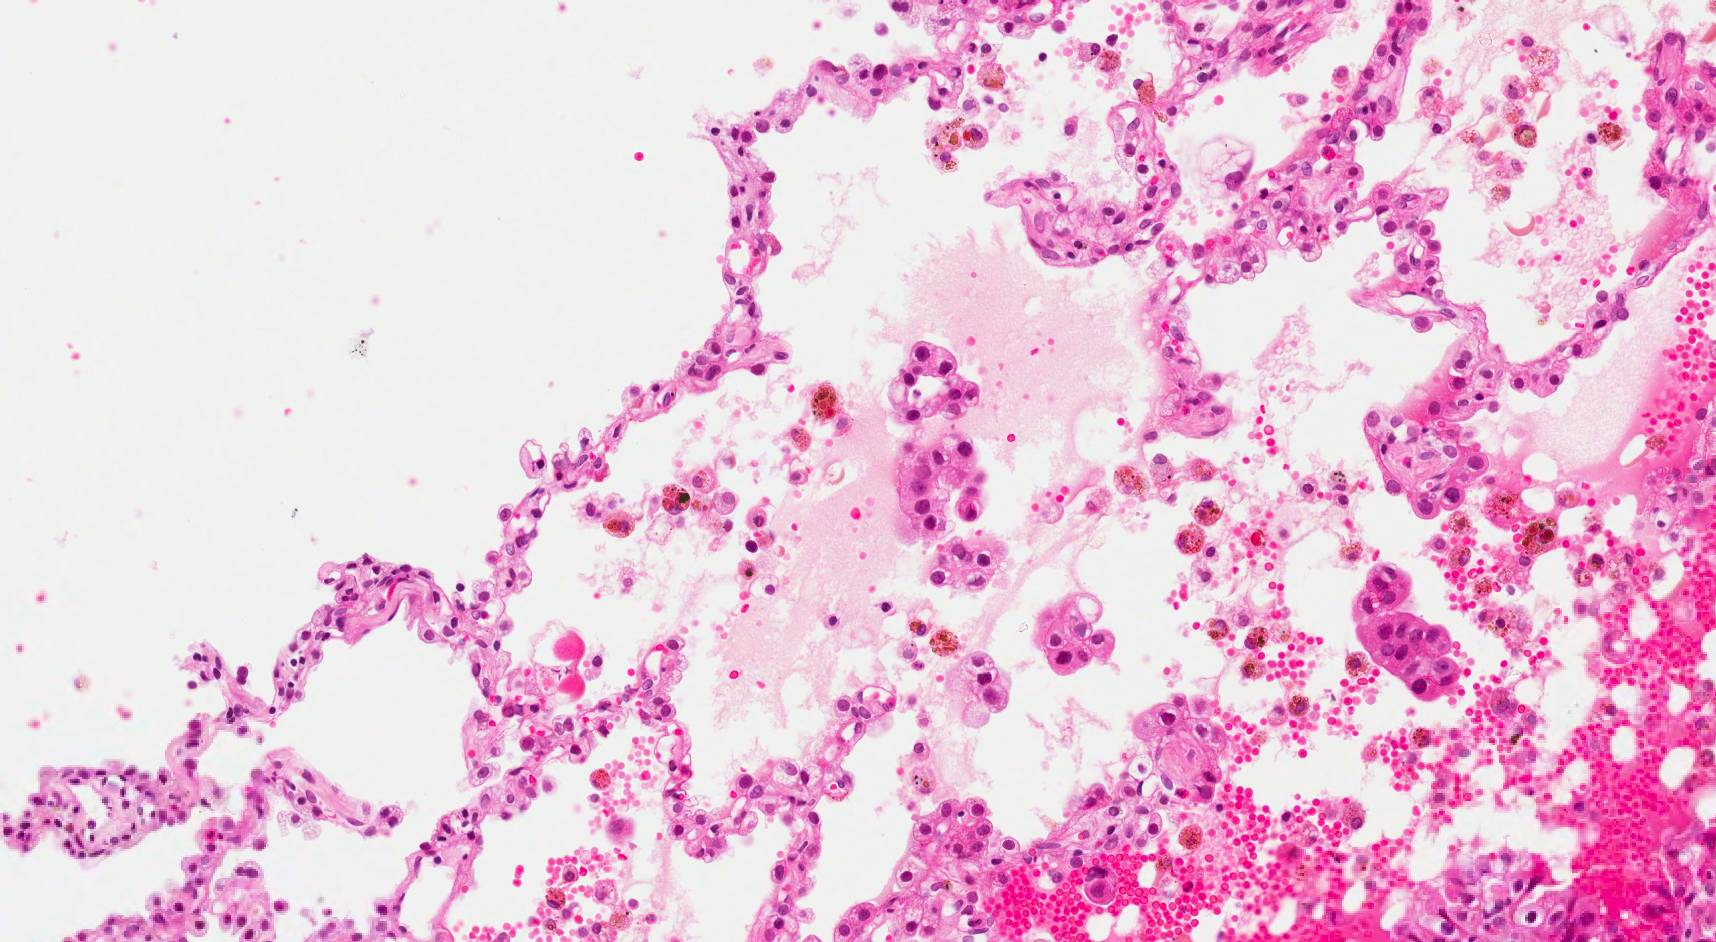stas: (1350, 556, 1467, 702), (1131, 692, 1234, 804), (896, 432, 988, 541), (887, 339, 984, 426), (1032, 590, 1117, 677), (921, 534, 1010, 592), (953, 650, 1012, 728)
